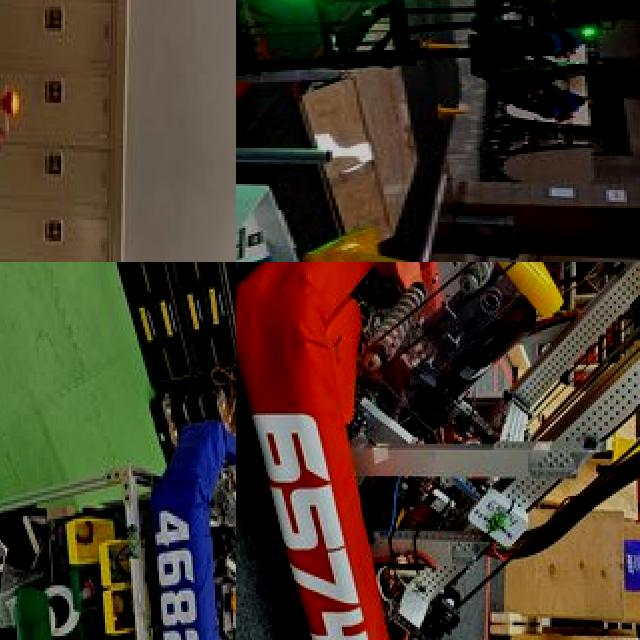FRC-Robots: (236, 262, 640, 640), (236, 0, 613, 165), (0, 0, 236, 262), (124, 262, 236, 640)
